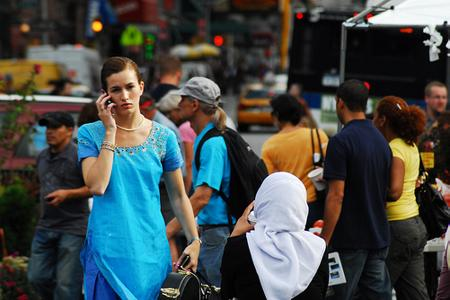person: (75, 57, 203, 300)
